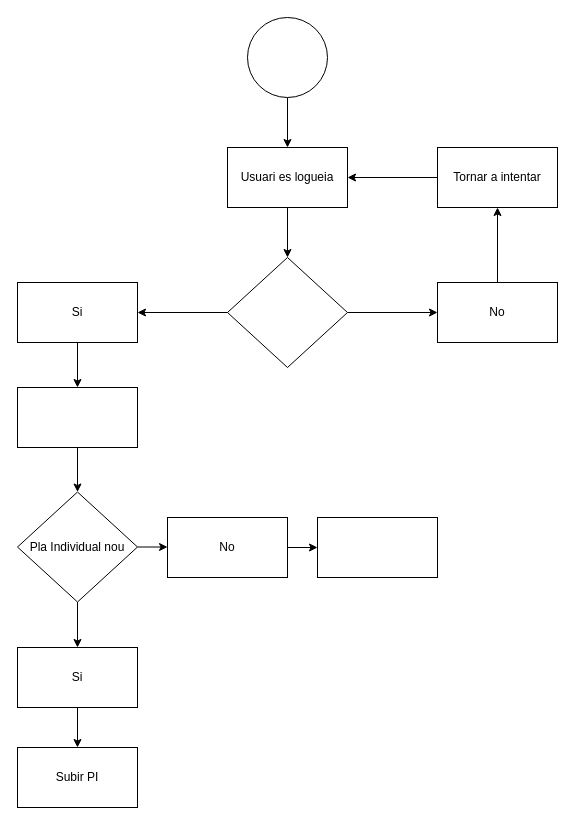
Image size: 575x825. Some labels were removed from this diagram. Each missing label, with the centre of its shape:
Buscar ID RALC d'alumne: (x=77, y=417)
Creedencials correctes: (x=287, y=312)
Pagina Introductoria: (x=287, y=57)
Veure Resum de la IA: (x=377, y=547)
